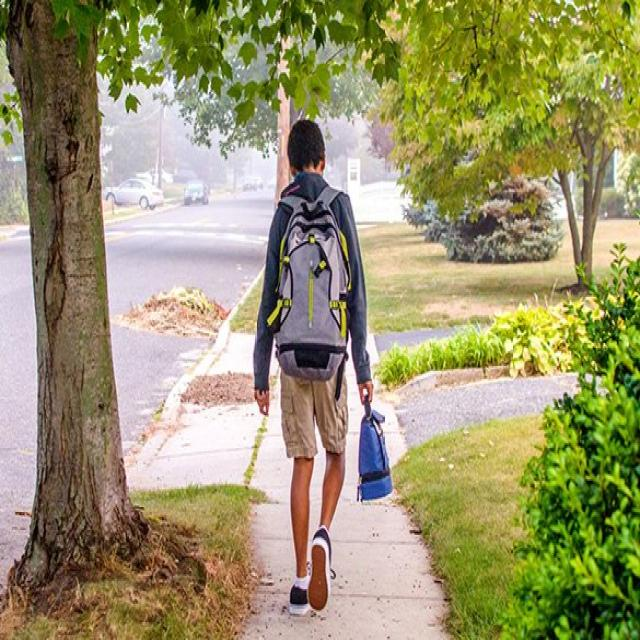Person: (254, 120, 391, 616)
